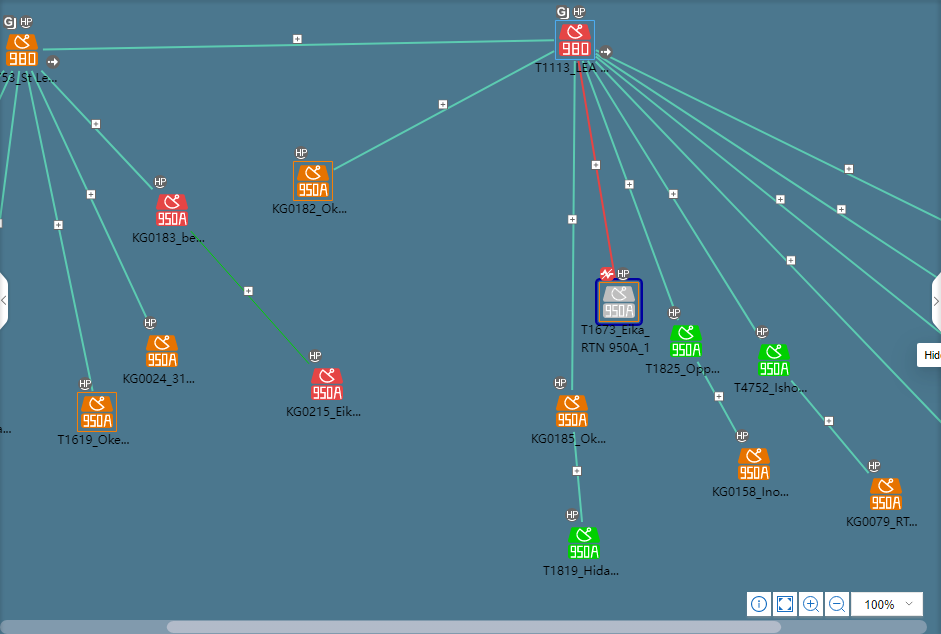Link_Blue: (594, 60, 941, 426), (596, 56, 941, 340), (596, 52, 937, 280), (596, 48, 941, 222), (586, 61, 756, 332), (30, 70, 149, 318), (334, 50, 554, 172), (581, 61, 675, 307), (24, 71, 96, 391), (40, 69, 155, 192), (790, 379, 872, 477), (42, 39, 555, 52), (696, 362, 738, 434), (0, 71, 20, 218), (571, 61, 576, 391), (572, 432, 584, 524), (0, 70, 14, 101)
Link_Green: (189, 230, 313, 368)
Link_Red: (577, 61, 616, 268)
RTN_Gray: (601, 285, 635, 320)
RTN_Green: (568, 528, 599, 560), (758, 344, 789, 376), (670, 326, 701, 357)
RTN_Orange: (78, 394, 115, 430), (295, 164, 330, 198), (556, 394, 588, 429), (870, 479, 902, 511), (6, 34, 38, 66), (738, 449, 769, 481), (146, 336, 177, 367)
RTN_Red: (557, 23, 591, 57), (156, 194, 187, 226), (311, 369, 342, 401)
